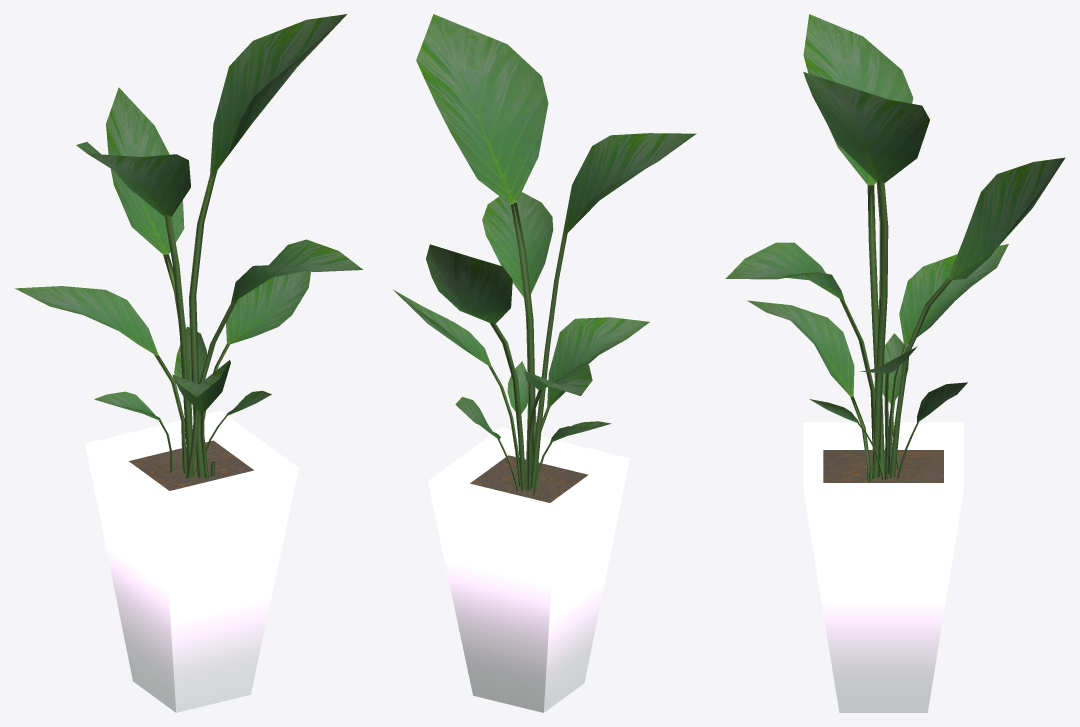
Rendered from Rectangle_plant.fbx.
3 views of the same model, side by side, from view 1: azimuth 30°, elevation 25°; view 2: azimuth 150°, elevation 25°; view 3: azimuth 270°, elevation 25° (orthographic). The views are drawn at different scales.
Visible parts, largest first — view 1: RectanglePlant; view 2: RectanglePlant; view 3: RectanglePlant.
Part boxes in pixels (x1=…): RectanglePlant: x1=15, y1=14, x2=362, y2=712; RectanglePlant: x1=393, y1=14, x2=696, y2=712; RectanglePlant: x1=725, y1=14, x2=1064, y2=712.
Size of the model in its own units: 68.85 by 159 by 72.13.
Materials: 1 (1 with a texture image).
